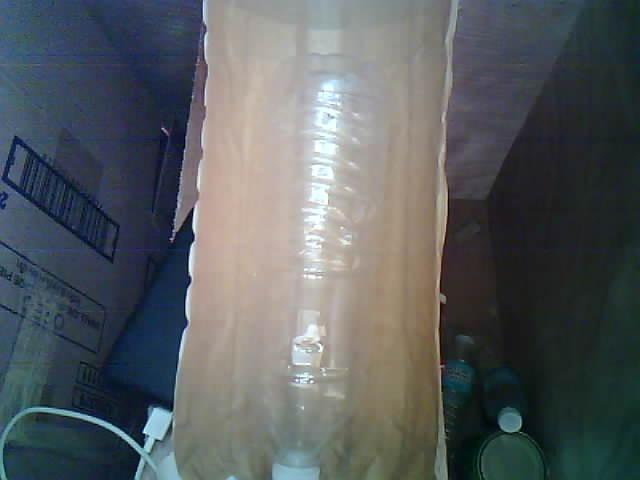large_bottle: (239, 43, 403, 480)
